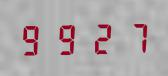nine: (51, 20, 83, 56), (18, 21, 50, 56)
seven: (117, 19, 149, 54)
two: (84, 19, 116, 55)
